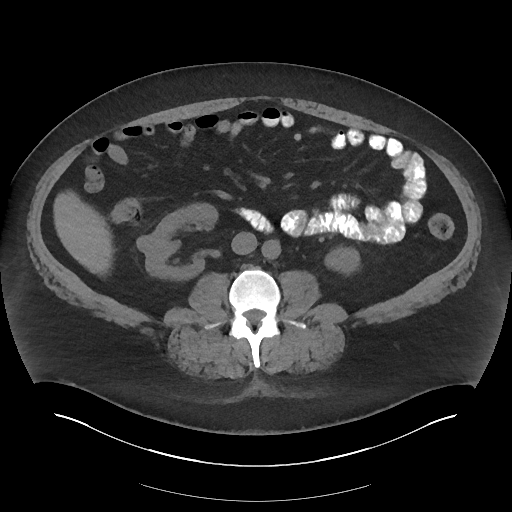Lesion: (133, 231, 156, 253)
